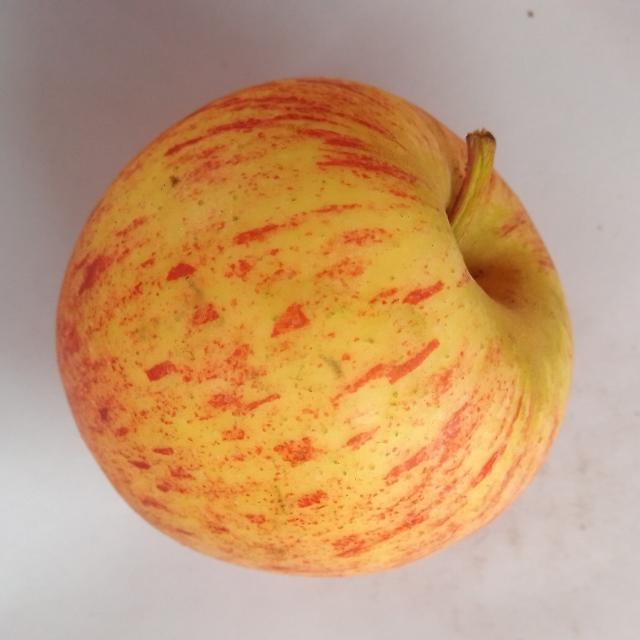Fresh Apple: (62, 74, 568, 588)
